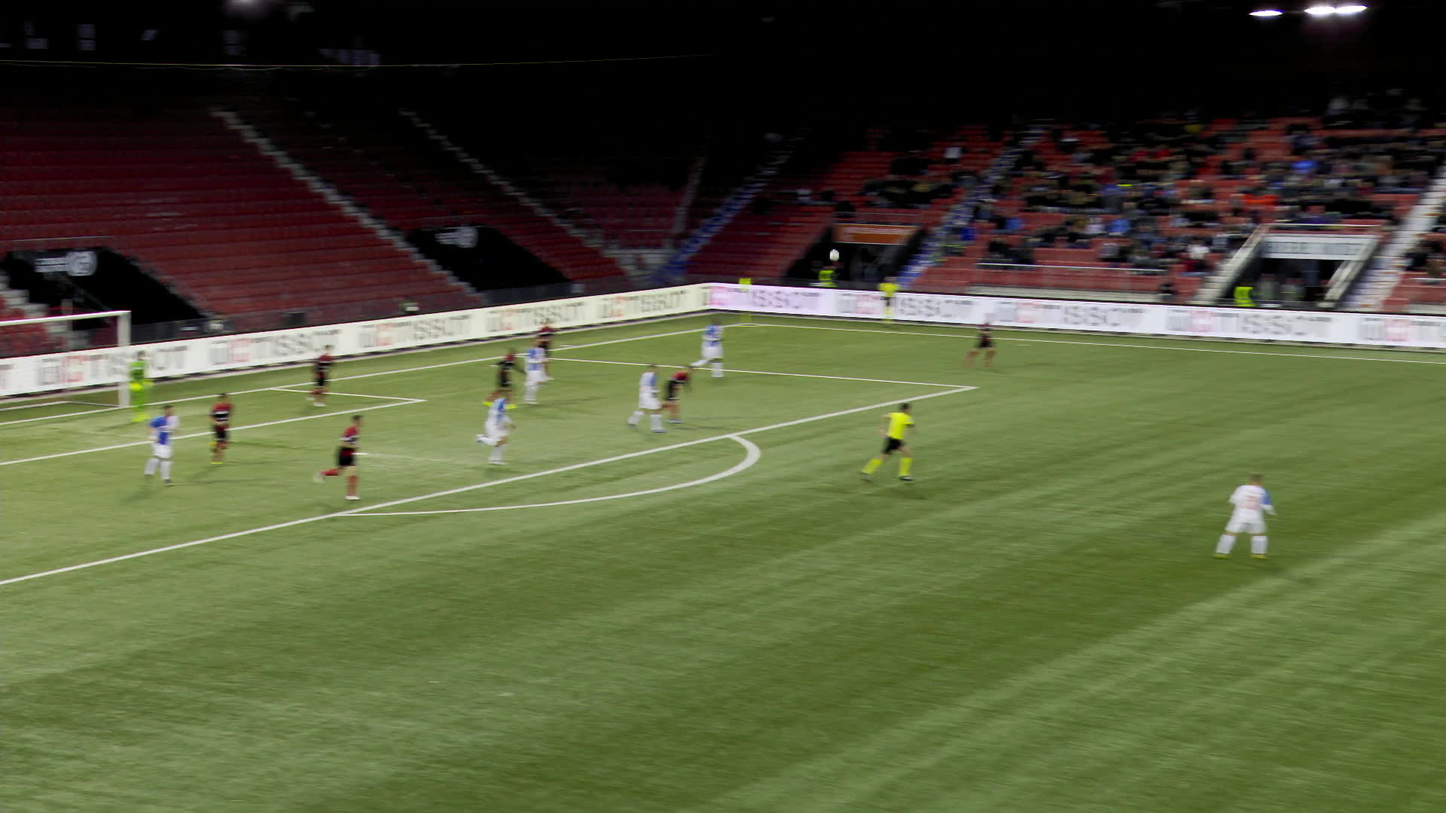ball: (828, 259, 838, 270)
goalkeeper: (145, 349, 171, 421)
player: (1231, 472, 1283, 560), (335, 413, 380, 497), (478, 386, 526, 462), (501, 346, 545, 410), (156, 406, 191, 486), (642, 364, 680, 432), (217, 388, 249, 466), (526, 335, 560, 405), (668, 367, 706, 422), (708, 316, 740, 381), (322, 345, 347, 406), (980, 315, 1008, 369), (544, 318, 566, 379)
referee: (882, 403, 935, 485), (897, 276, 919, 324)
